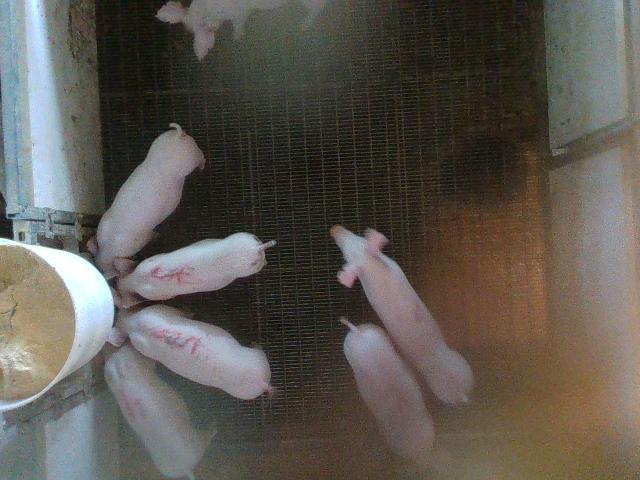pig-1: (344, 320, 435, 461)
pig-3: (109, 305, 271, 399)
pig-4: (104, 345, 215, 478)
pig-5: (112, 232, 276, 308)
